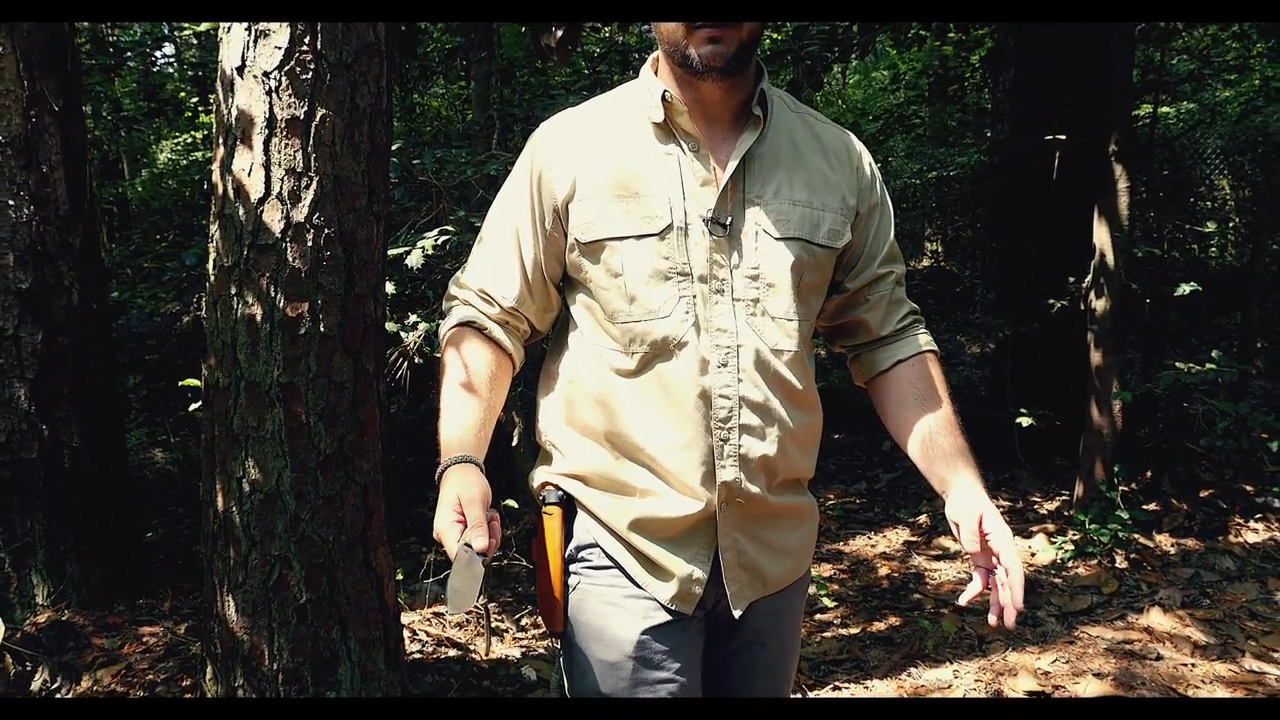knife: (419, 490, 510, 630)
